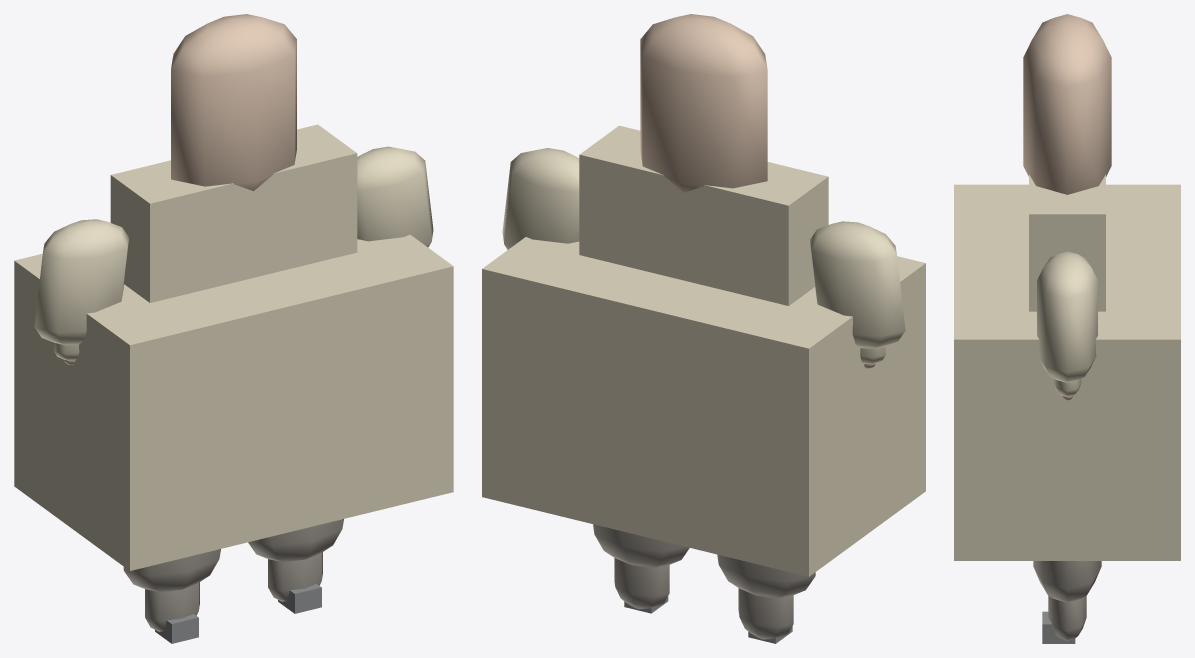
The model's file is hollen.glb.
The picture shows the model from 3 angles, left to right: view 1: azimuth 30°, elevation 25°; view 2: azimuth 150°, elevation 25°; view 3: azimuth 270°, elevation 25°; orthographic projection. The views are drawn at different scales.
Visible parts, largest first — view 1: box:linen, torso, head, capsule:linen (×2), capsule:cloth (×4), foot.L, foot.R; view 2: box:linen, torso, head, capsule:linen (×2), capsule:cloth (×4); view 3: box:linen, head, capsule:linen (×2), torso, capsule:cloth (×2), foot.R.
Boxes of the visible parts, x1=… form: box:linen: x1=14, y1=234, x2=453, y2=570; torso: x1=110, y1=124, x2=357, y2=302; head: x1=171, y1=14, x2=296, y2=190; capsule:linen (×2): x1=34, y1=146, x2=433, y2=345; capsule:cloth (×4): x1=123, y1=519, x2=343, y2=631; foot.L: x1=155, y1=614, x2=198, y2=643; foot.R: x1=278, y1=584, x2=321, y2=613; box:linen: x1=482, y1=237, x2=925, y2=576; torso: x1=579, y1=125, x2=828, y2=305; head: x1=640, y1=14, x2=767, y2=192; capsule:linen (×2): x1=502, y1=148, x2=905, y2=348; capsule:cloth (×4): x1=593, y1=524, x2=815, y2=639; box:linen: x1=954, y1=184, x2=1180, y2=560; head: x1=1023, y1=14, x2=1111, y2=194; capsule:linen (×2): x1=1037, y1=251, x2=1097, y2=396; torso: x1=1029, y1=174, x2=1105, y2=311; capsule:cloth (×2): x1=1033, y1=561, x2=1101, y2=641; foot.R: x1=1042, y1=611, x2=1075, y2=643.
Size of the model in its own units: 0.5177 by 0.7412 by 0.26.
